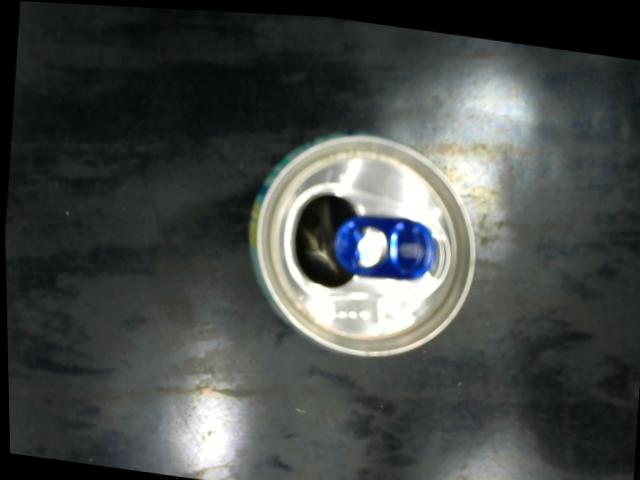can: (233, 109, 488, 370)
